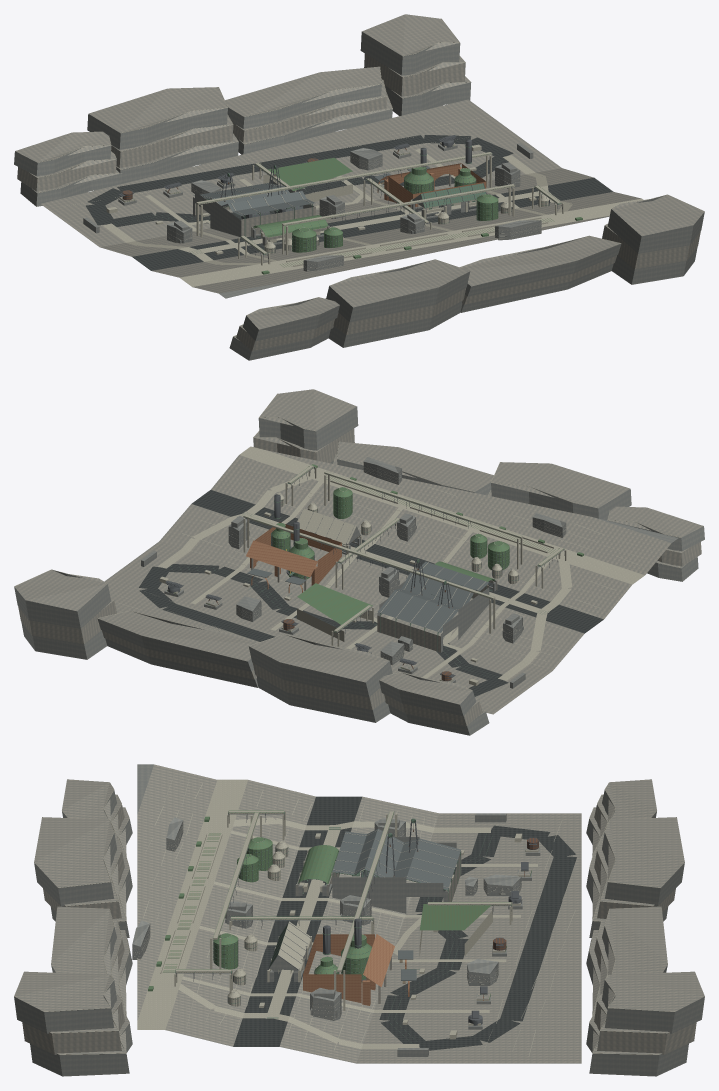
File: gravemill-foundry-r6.glb
The picture shows the model from 3 angles, top to bottom: view 1: azimuth 30°, elevation 25°; view 2: azimuth 150°, elevation 25°; view 3: azimuth 270°, elevation 25°; orthographic projection. The views are drawn at different scales.
Parts seen in each view (by area): view 1: Gravemill / mineral, Gravemill / soot, Gravemill / ore, Gravemill / cooling-floor, Gravemill / copper, Gravemill / chalk, Gravemill / brass, kit.new-hero.GM / soot.00; view 2: Gravemill / mineral, Gravemill / soot, Gravemill / copper, Gravemill / ore, Gravemill / cooling-floor, Gravemill / chalk, kit.new-hero.GM / soot.00, kit.new-hero.G4 / ribbed.00, Gravemill / brass; view 3: Gravemill / mineral, Gravemill / soot, Gravemill / cooling-floor, Gravemill / copper, Gravemill / ore, Gravemill / chalk, Gravemill / brass, kit.new-hero.GM / soot.00, kit.new-hero.G4 / ribbed.00, kit.new-hero.GM / brass.00, kit.new-hero.GM / mineral.00, kit.new-hero.GM / ore.00.
Boxes of the visible parts, x1=… form: Gravemill / mineral: x1=14, y1=14, x2=704, y2=360; Gravemill / soot: x1=103, y1=142, x2=643, y2=286; Gravemill / ore: x1=17, y1=53, x2=700, y2=350; Gravemill / cooling-floor: x1=86, y1=135, x2=613, y2=270; Gravemill / copper: x1=125, y1=145, x2=582, y2=274; Gravemill / chalk: x1=38, y1=19, x2=704, y2=336; Gravemill / brass: x1=114, y1=150, x2=549, y2=253; kit.new-hero.GM / soot.00: x1=221, y1=139, x2=562, y2=260; Gravemill / mineral: x1=14, y1=389, x2=704, y2=735; Gravemill / soot: x1=158, y1=446, x2=644, y2=685; Gravemill / copper: x1=167, y1=464, x2=583, y2=680; Gravemill / ore: x1=18, y1=428, x2=701, y2=725; Gravemill / cooling-floor: x1=139, y1=490, x2=603, y2=696; Gravemill / chalk: x1=14, y1=394, x2=680, y2=711; kit.new-hero.GM / soot.00: x1=274, y1=467, x2=564, y2=637; kit.new-hero.G4 / ribbed.00: x1=247, y1=467, x2=563, y2=632; Gravemill / brass: x1=170, y1=468, x2=563, y2=681; Gravemill / mineral: x1=14, y1=764, x2=704, y2=1076; Gravemill / soot: x1=137, y1=779, x2=539, y2=1049; Gravemill / cooling-floor: x1=233, y1=796, x2=576, y2=1050; Gravemill / copper: x1=148, y1=810, x2=531, y2=1000; Gravemill / ore: x1=22, y1=794, x2=696, y2=1054; Gravemill / chalk: x1=44, y1=780, x2=674, y2=1056; Gravemill / brass: x1=178, y1=812, x2=529, y2=1043; kit.new-hero.GM / soot.00: x1=175, y1=814, x2=511, y2=981; kit.new-hero.G4 / ribbed.00: x1=176, y1=814, x2=510, y2=980; kit.new-hero.GM / brass.00: x1=175, y1=811, x2=536, y2=1018; kit.new-hero.GM / mineral.00: x1=405, y1=845, x2=540, y2=1029; kit.new-hero.GM / ore.00: x1=468, y1=838, x2=538, y2=1025.
Bounding box in the file's own units: 395 × 58.5 × 448.
18 materials, 17 textured.
